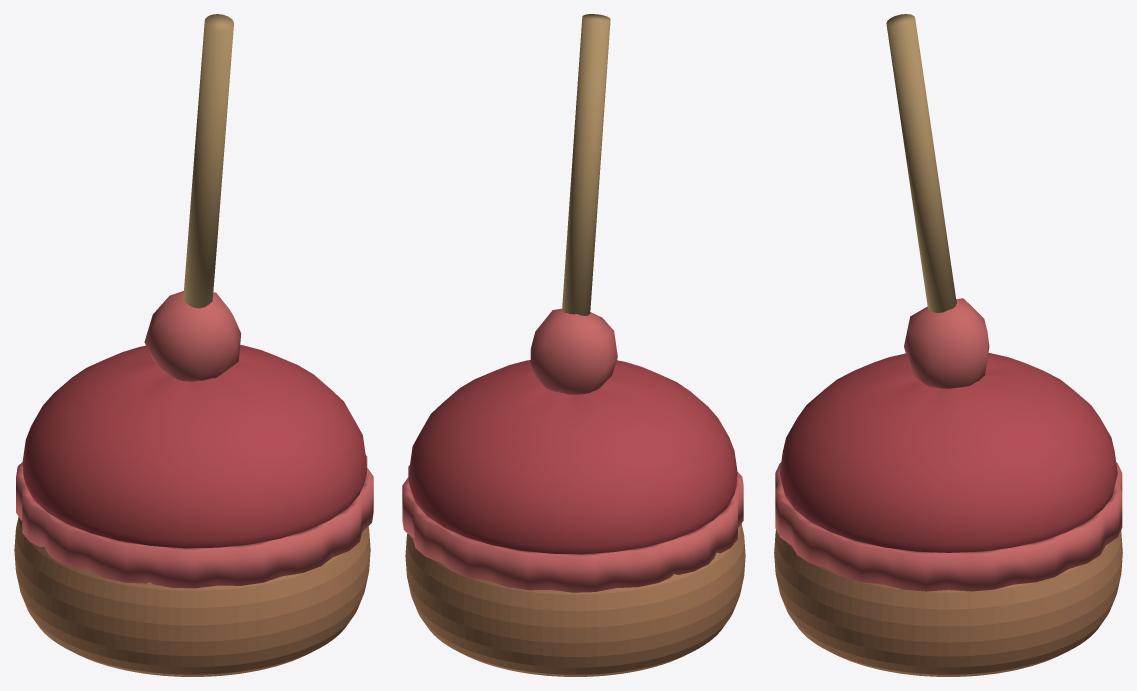
File: head_var_hat-d.glb
3 views of the same model, side by side, from view 1: azimuth 30°, elevation 25°; view 2: azimuth 150°, elevation 25°; view 3: azimuth 270°, elevation 25° (orthographic). The views are drawn at different scales.
Visible parts, largest first — view 1: tmp_head_04; view 2: tmp_head_04; view 3: tmp_head_04.
Boxes of the visible parts, left/top/right/bottom form: tmp_head_04: left=14, top=14, right=373, bottom=676; tmp_head_04: left=402, top=14, right=745, bottom=676; tmp_head_04: left=774, top=14, right=1122, bottom=676.
Size of the model in its own units: 1.08 by 2.04 by 1.07.
